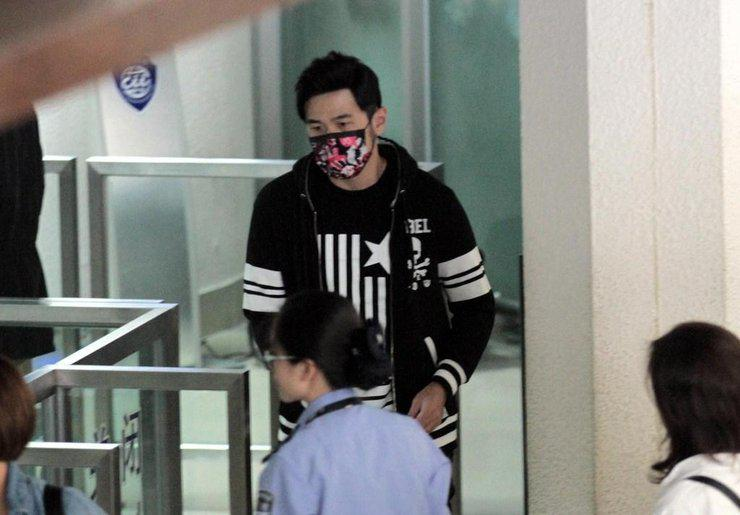NONE: (266, 347, 316, 406)
OK: (303, 113, 369, 179)
